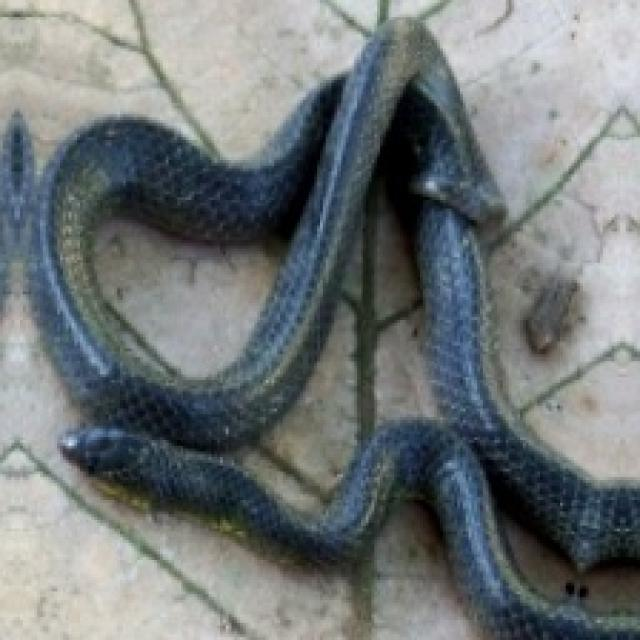gunthers philippine shrub snake: (31, 17, 637, 637)
